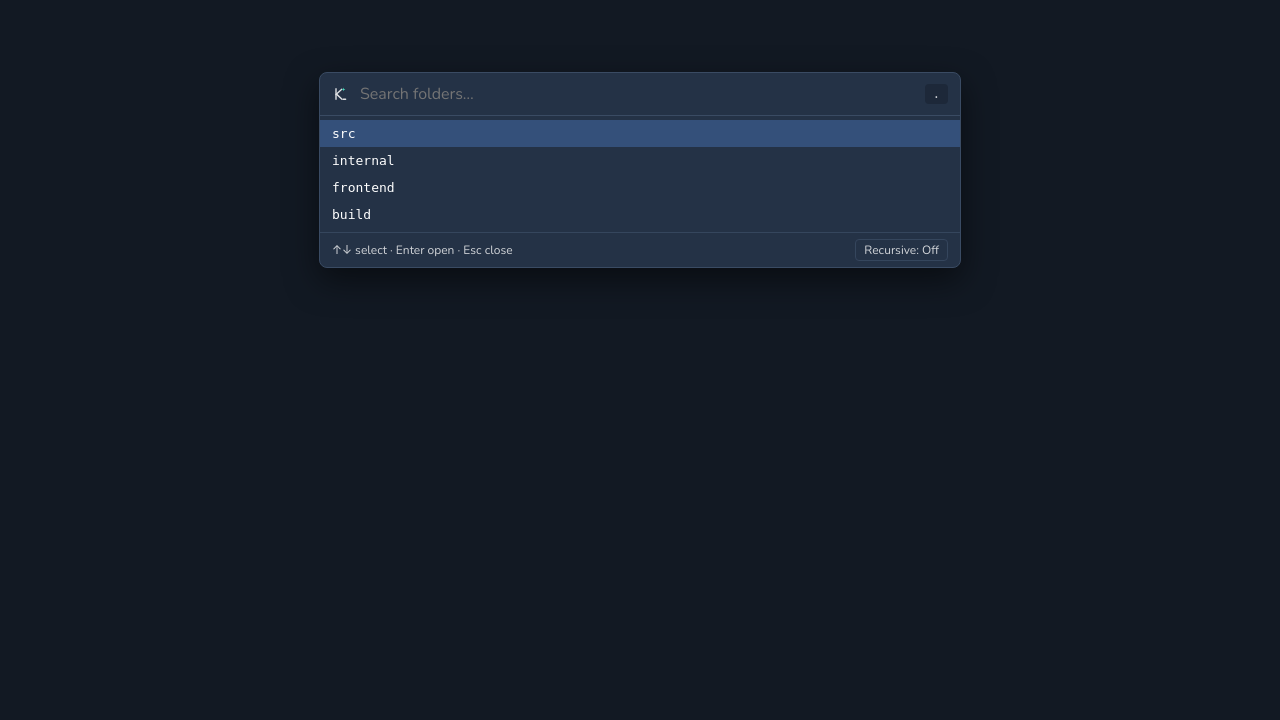
Test: folderPanel › searching & filtering › shows "No matching folders" when filter matches nothing
Step 1. Type "nonexistent-folder" into the field with placeholder "Search folders…" → (636, 94), box [358,73,915,115]
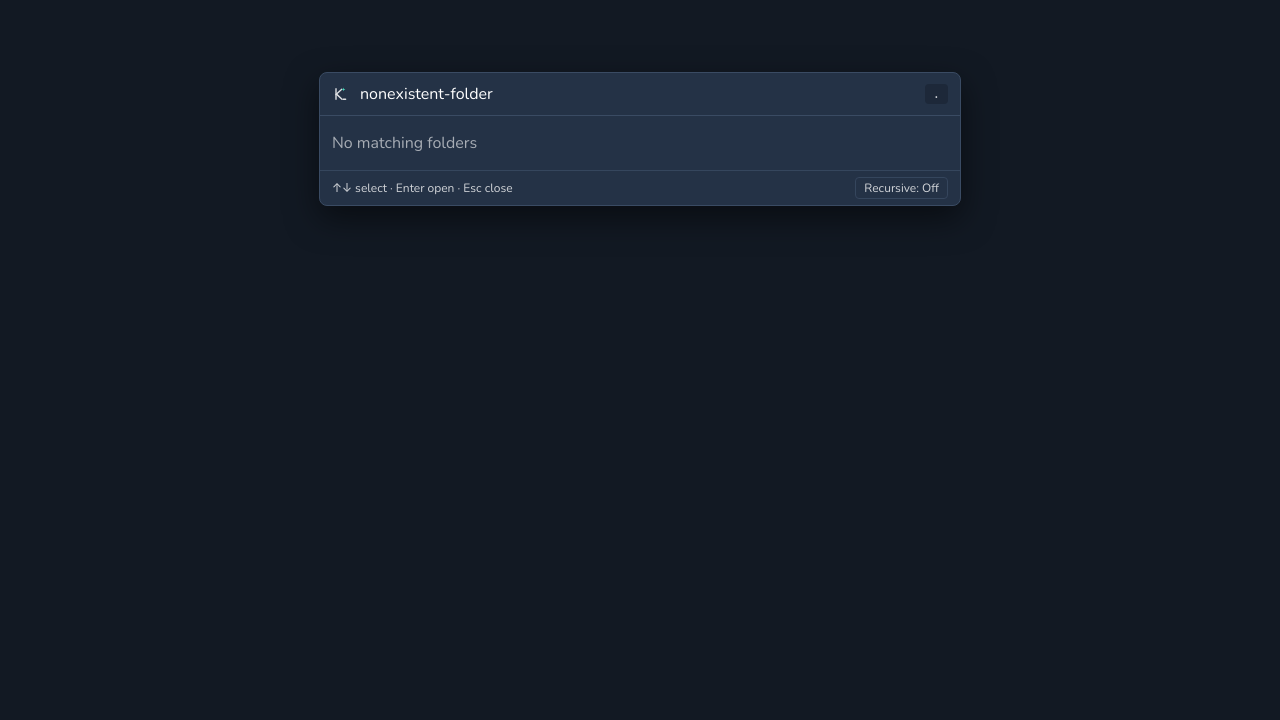
Now no options are shown
Now the text "No matching folders" is shown, box [332,132,477,154]
